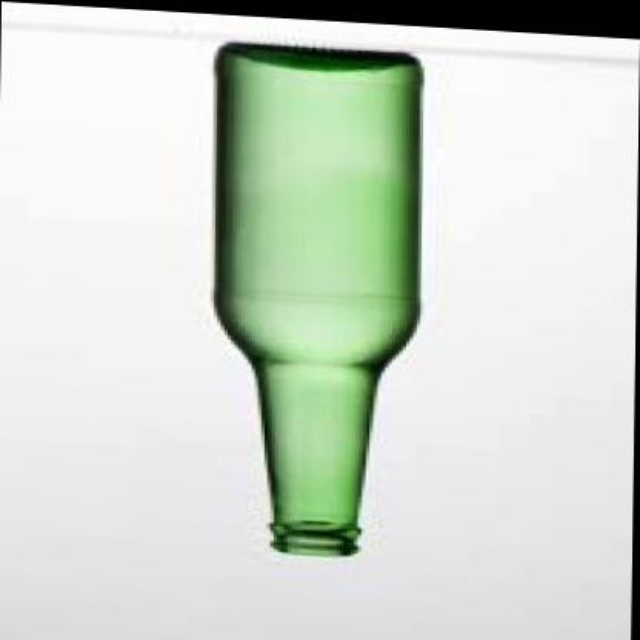trash: (215, 45, 420, 554)
